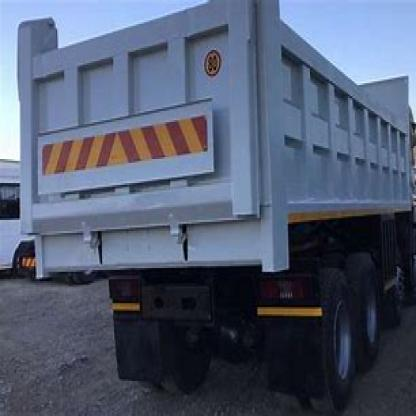dump_truck: (7, 9, 414, 400)
